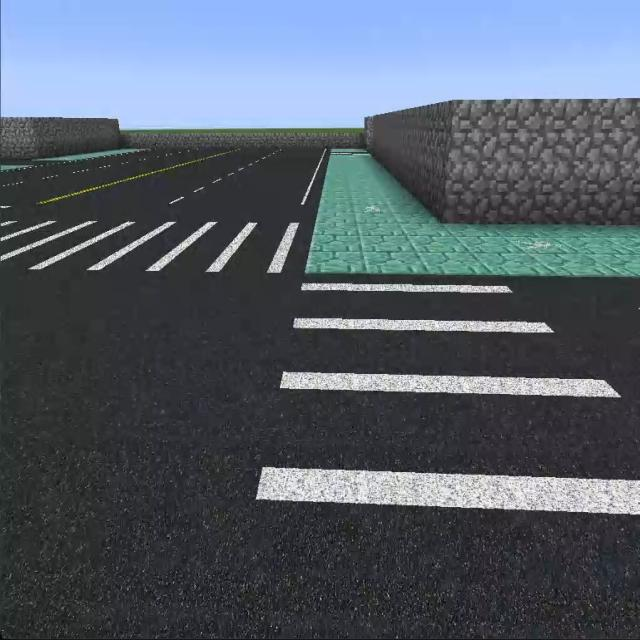crosswalk: (213, 276, 634, 639), (1, 210, 315, 285)
road: (6, 281, 296, 632), (4, 150, 329, 215)
sidewalk: (306, 154, 639, 278), (34, 149, 149, 160)
